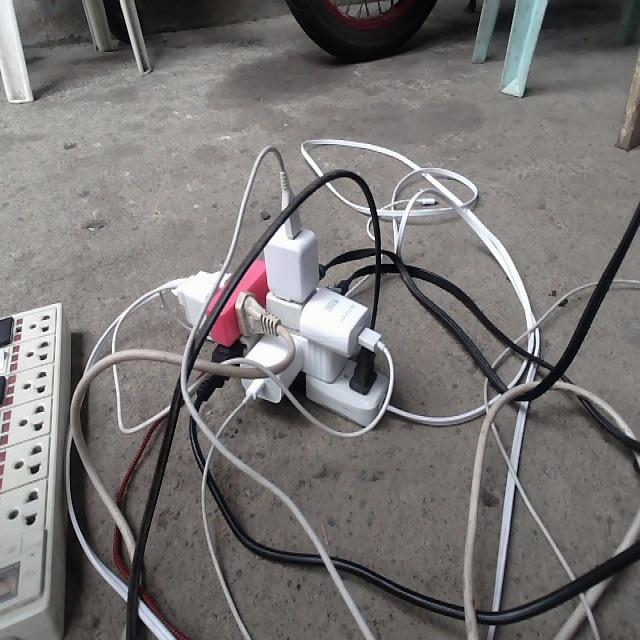-: (170, 164, 393, 425)
